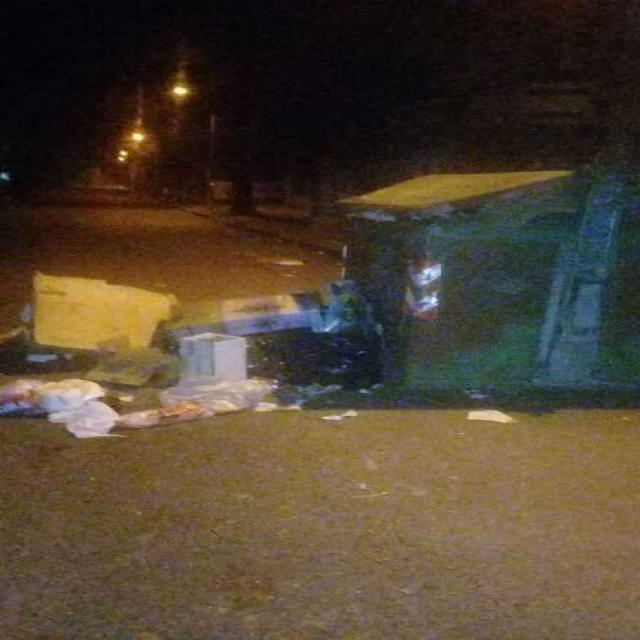garbage: (0, 268, 380, 454), (330, 164, 616, 256)
